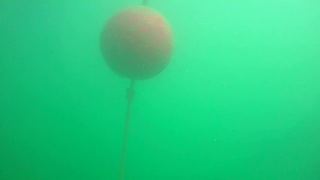bubble: (213, 138, 216, 141)
buoy: (98, 5, 175, 80)
